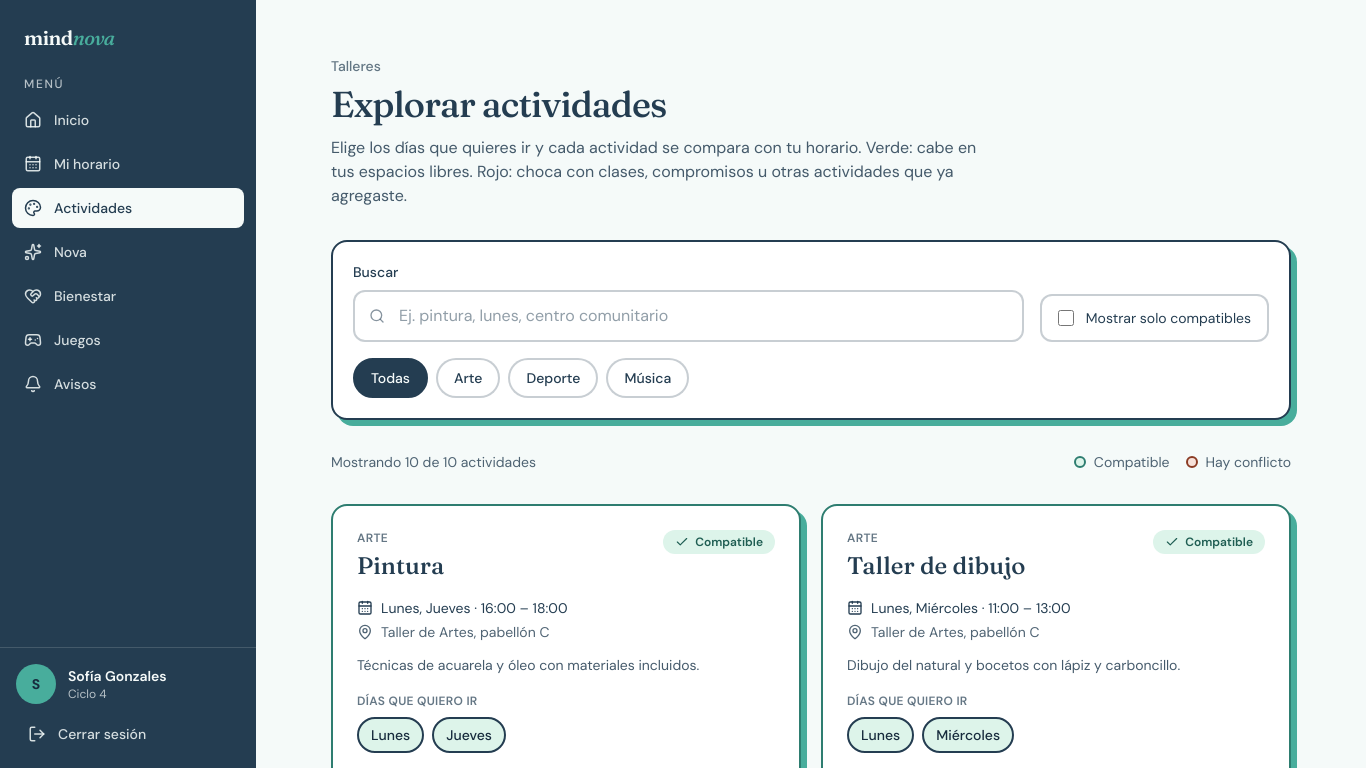
Explorar actividades › el filtro «solo compatibles» oculta las actividades en rojo
Click the checkbox labelled "Mostrar solo compatibles".
click(1066, 318)  # box [1058, 310, 1074, 326]
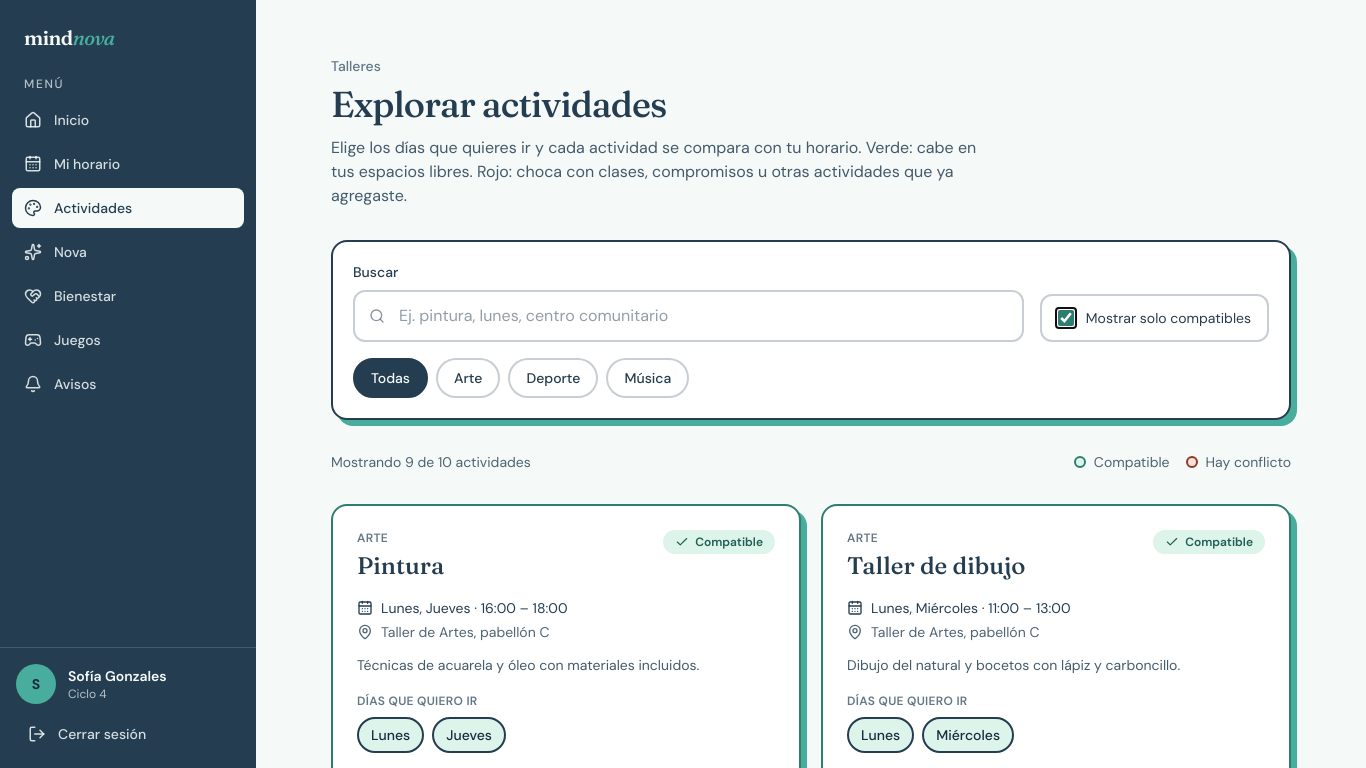
Check: the message reads "Mostrando 9 de 10 actividades", box [331, 452, 531, 472]
